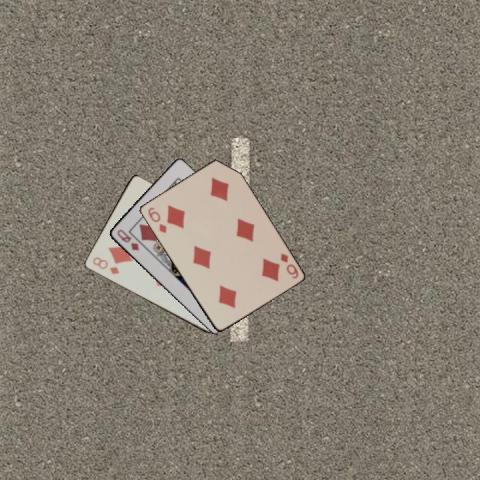6d: (145, 204, 168, 235), (278, 250, 300, 280)
8d: (89, 254, 120, 276)
Qd: (113, 226, 140, 252)
